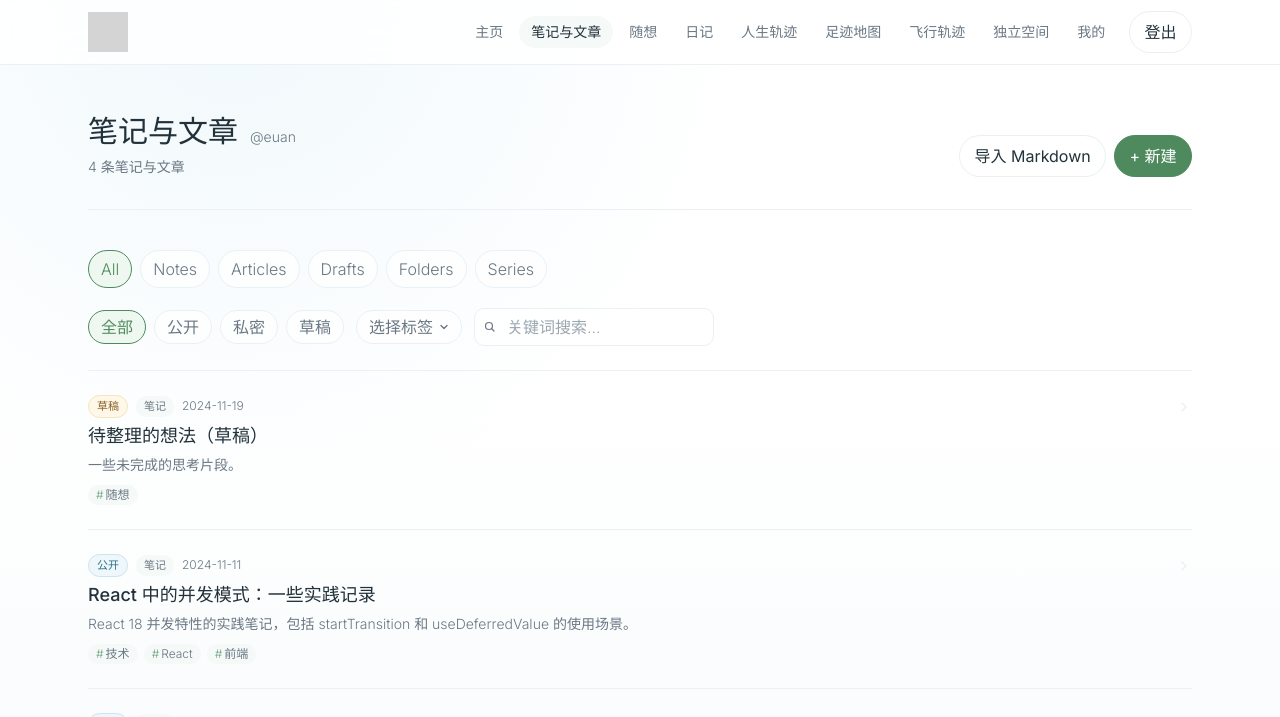
Test: folders view › opens a folder and shows only its notes
Click the button "Folders" at (426, 269), box [386, 250, 466, 288]
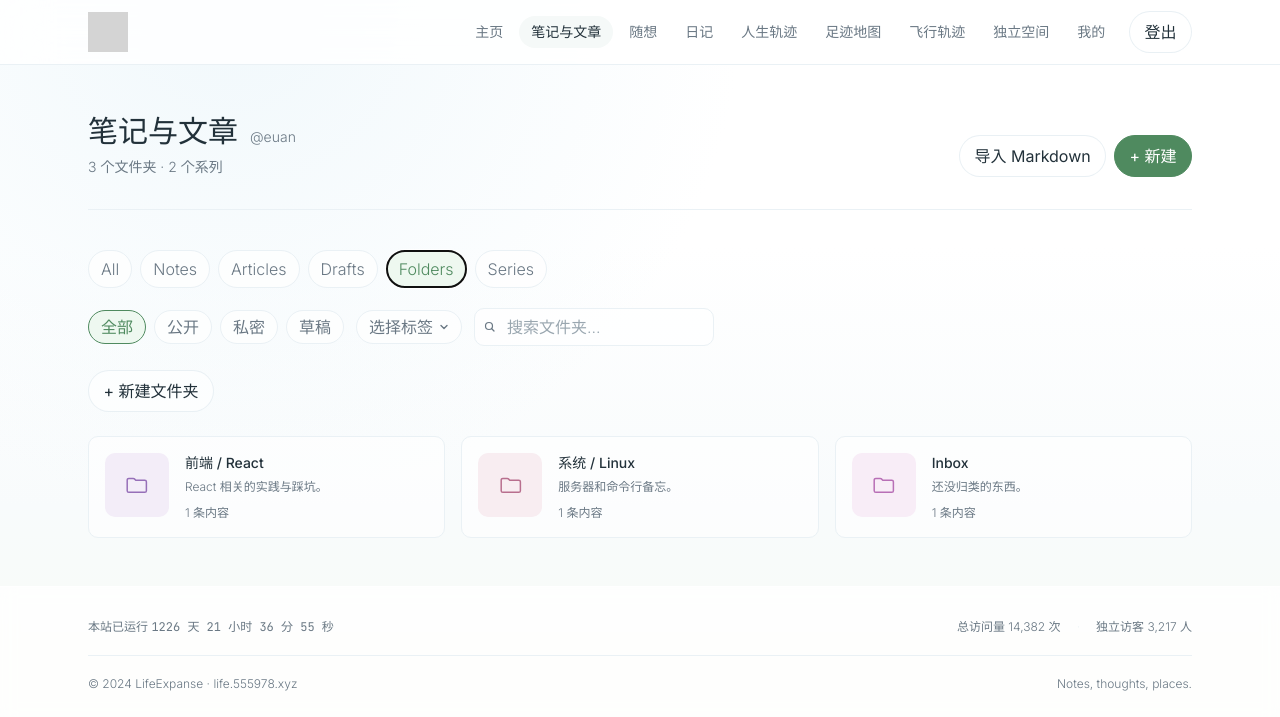
Click the button "前端 / React React 相关的实践与踩坑。 1 条内容" at (267, 487), box [88, 436, 445, 538]
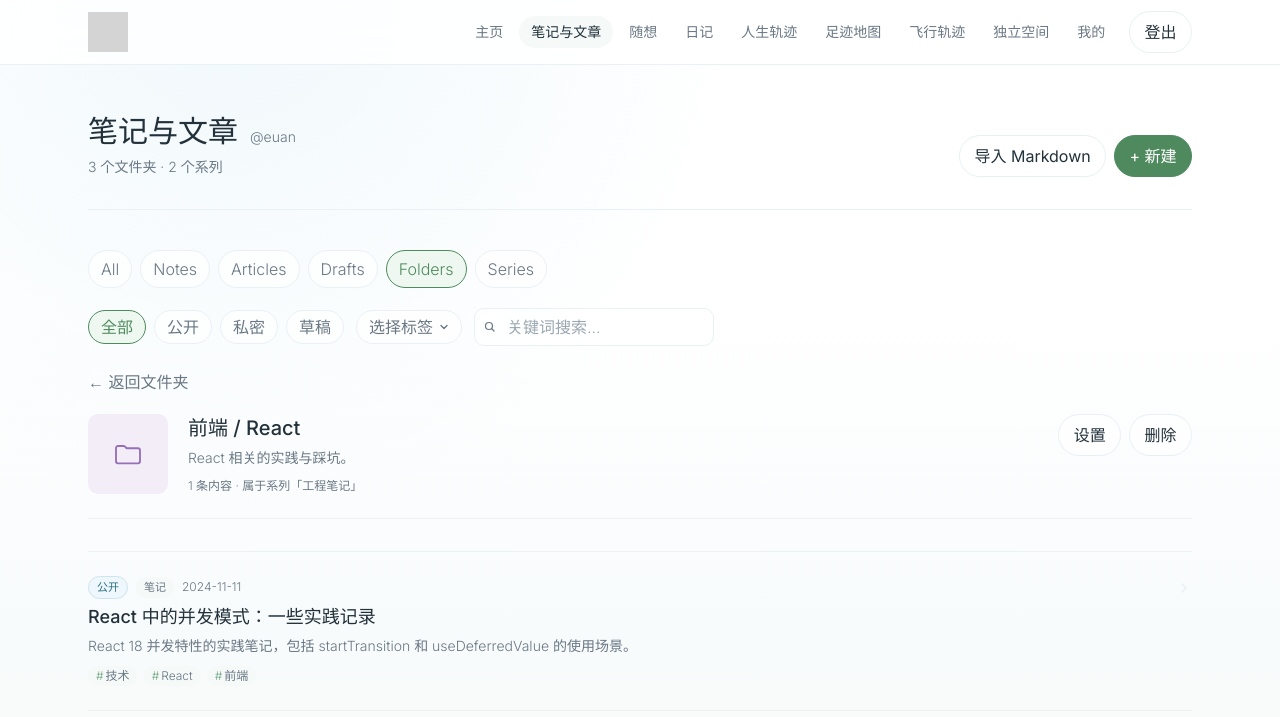
Now the heading "React 中的并发模式：一些实践记录" is shown, box [88, 606, 376, 626]
